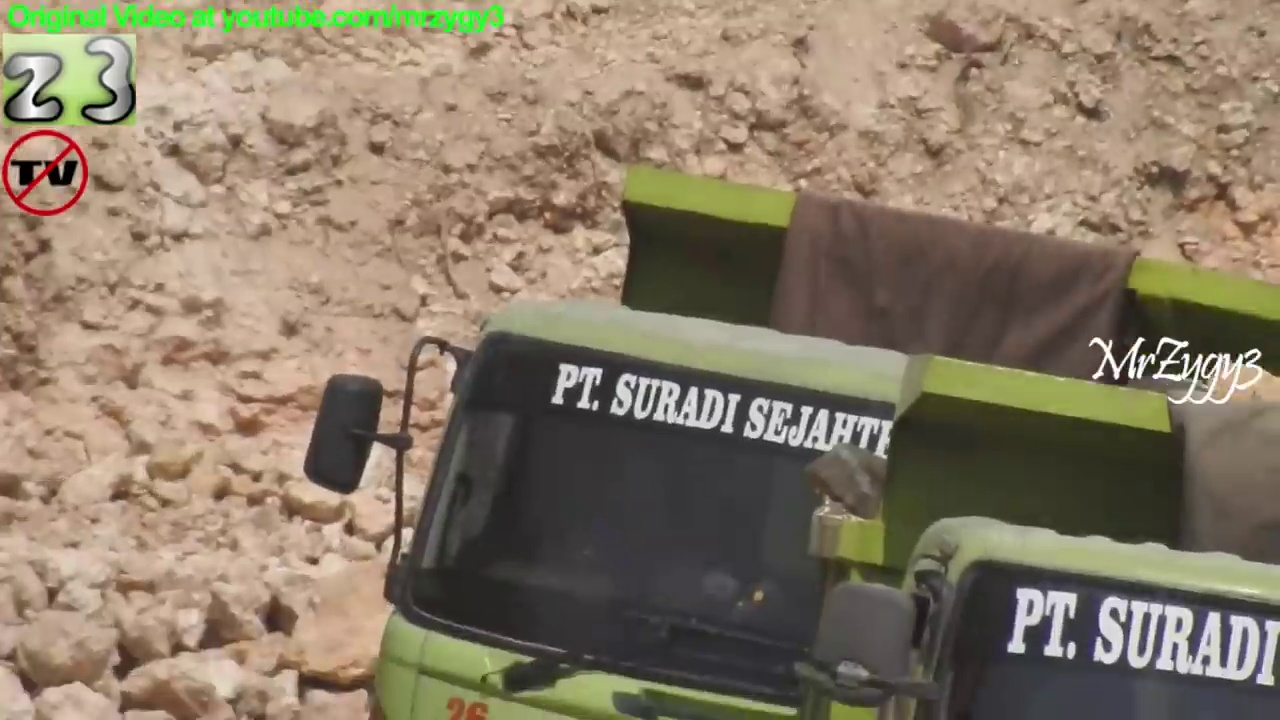truck: (298, 157, 1275, 720), (802, 347, 1280, 719)
